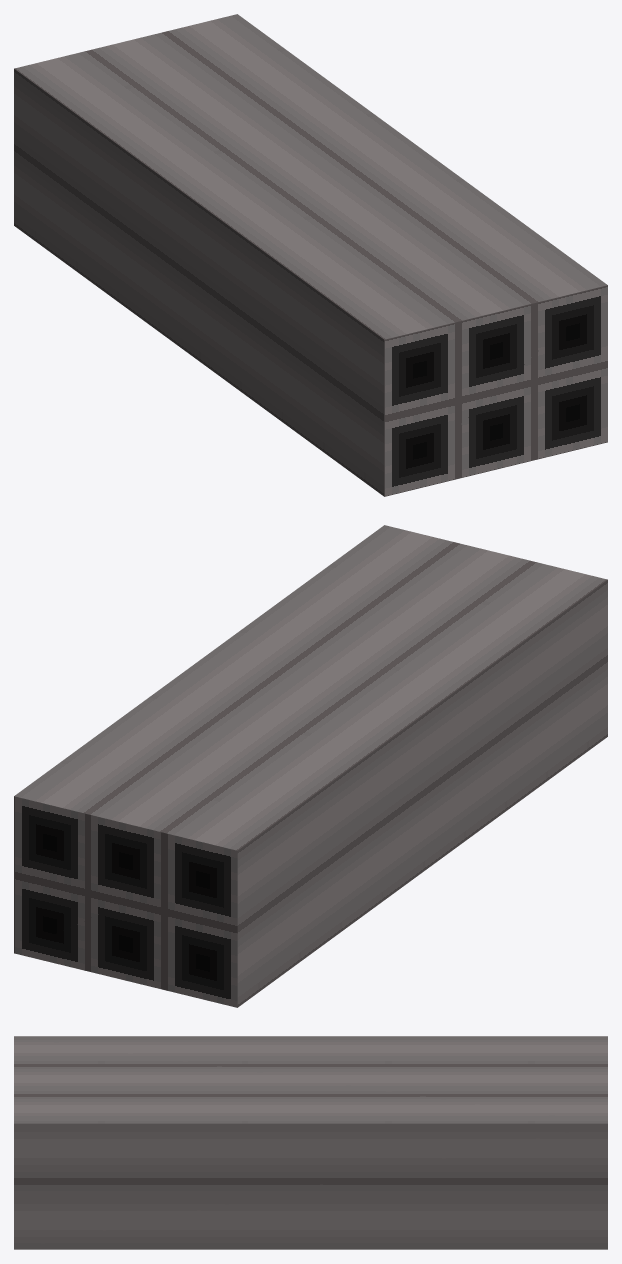
File: BLOCKYGON_LARGE PIPE(MEDIUM).fbx
3 views of the same model, one above another, from view 1: azimuth 30°, elevation 25°; view 2: azimuth 150°, elevation 25°; view 3: azimuth 270°, elevation 25° (orthographic). The views are drawn at different scales.
Parts seen in each view (by area): view 1: BLOCKYGON_LARGE_PIPE_MEDIUM_; view 2: BLOCKYGON_LARGE_PIPE_MEDIUM_; view 3: BLOCKYGON_LARGE_PIPE_MEDIUM_.
Boxes of the visible parts, x1=… form: BLOCKYGON_LARGE_PIPE_MEDIUM_: x1=14, y1=14, x2=607, y2=496; BLOCKYGON_LARGE_PIPE_MEDIUM_: x1=14, y1=525, x2=607, y2=1007; BLOCKYGON_LARGE_PIPE_MEDIUM_: x1=14, y1=1036, x2=607, y2=1249.
Size of the model in its own units: 313 by 211 by 900.
